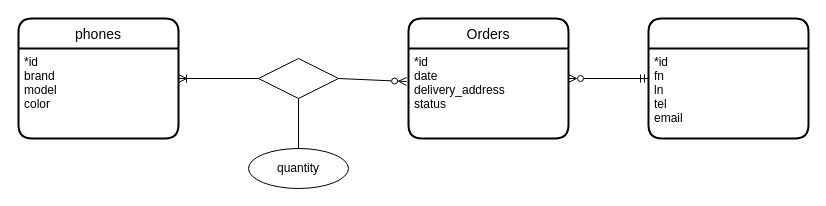
Image size: 826x206. Some labels were removed from this diagram. Here are the shapes that lost their labels. From the top down, the box of each, then its label:
(258, 58, 338, 98): in
(647, 17, 809, 139): Users
